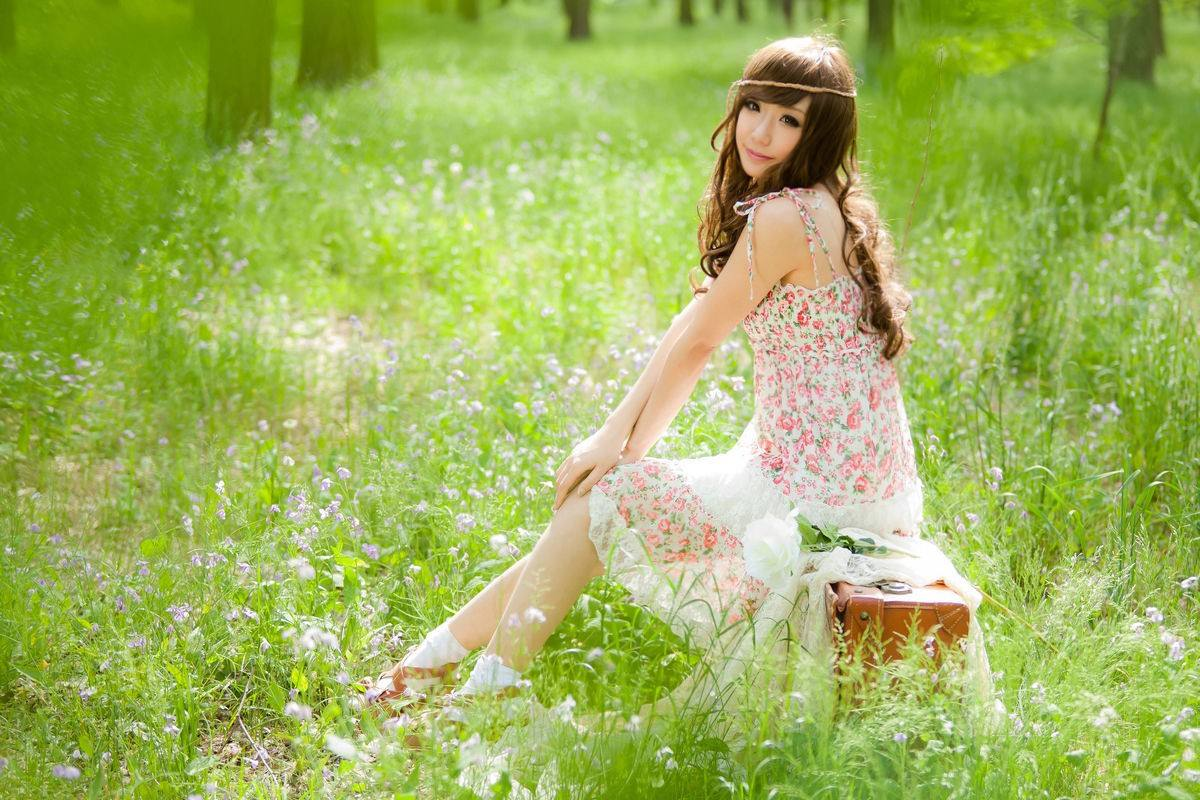person: (438, 41, 1025, 747)
